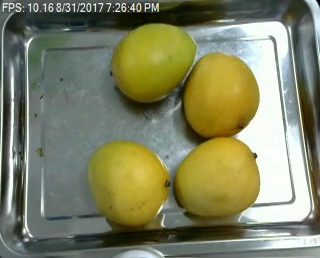Mango: (87, 141, 169, 225), (174, 138, 258, 219), (111, 24, 198, 101), (183, 52, 260, 138)
